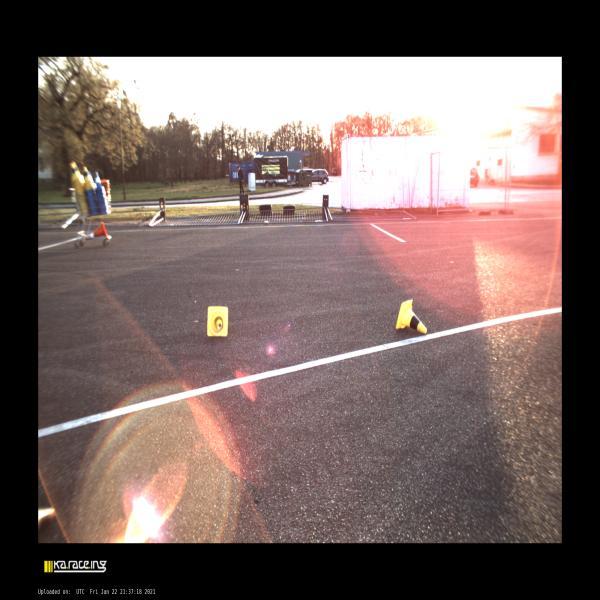yellow_cone: (396, 299, 427, 334), (207, 306, 228, 337)
